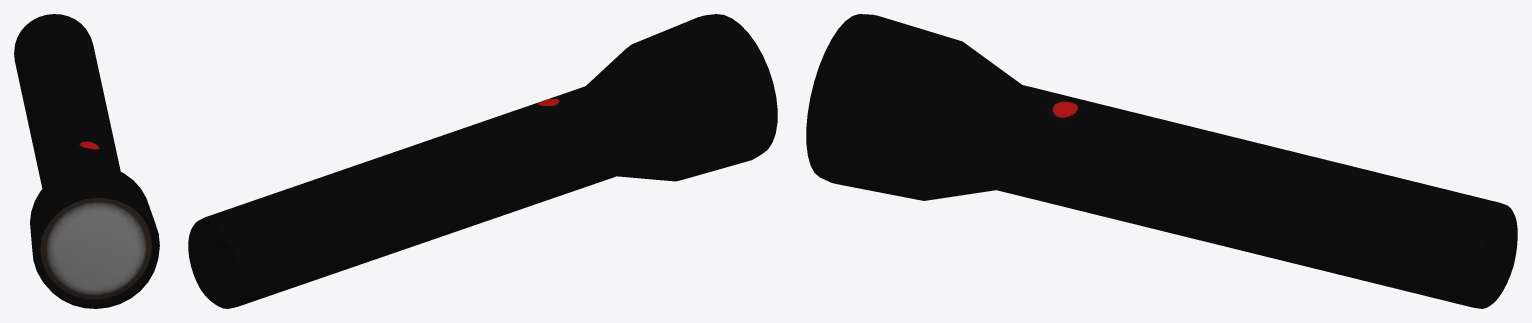
The model's file is flashlight_prop.glb.
The picture shows the model from 3 angles, left to right: view 1: azimuth 30°, elevation 25°; view 2: azimuth 150°, elevation 25°; view 3: azimuth 270°, elevation 25°; orthographic projection. The views are drawn at different scales.
Visible parts, largest first — view 1: Flashlight_v2.003_Flashlight_MAT_0; view 2: Flashlight_v2.003_Flashlight_MAT_0; view 3: Flashlight_v2.003_Flashlight_MAT_0.
Boxes of the visible parts, box(x1,y1,x2,y2) form: Flashlight_v2.003_Flashlight_MAT_0: box(14, 14, 159, 308); Flashlight_v2.003_Flashlight_MAT_0: box(188, 14, 777, 308); Flashlight_v2.003_Flashlight_MAT_0: box(806, 14, 1517, 308).
Size of the model in its own units: 0.1871 by 0.0753 by 0.3078.
1 material, 1 textured.
